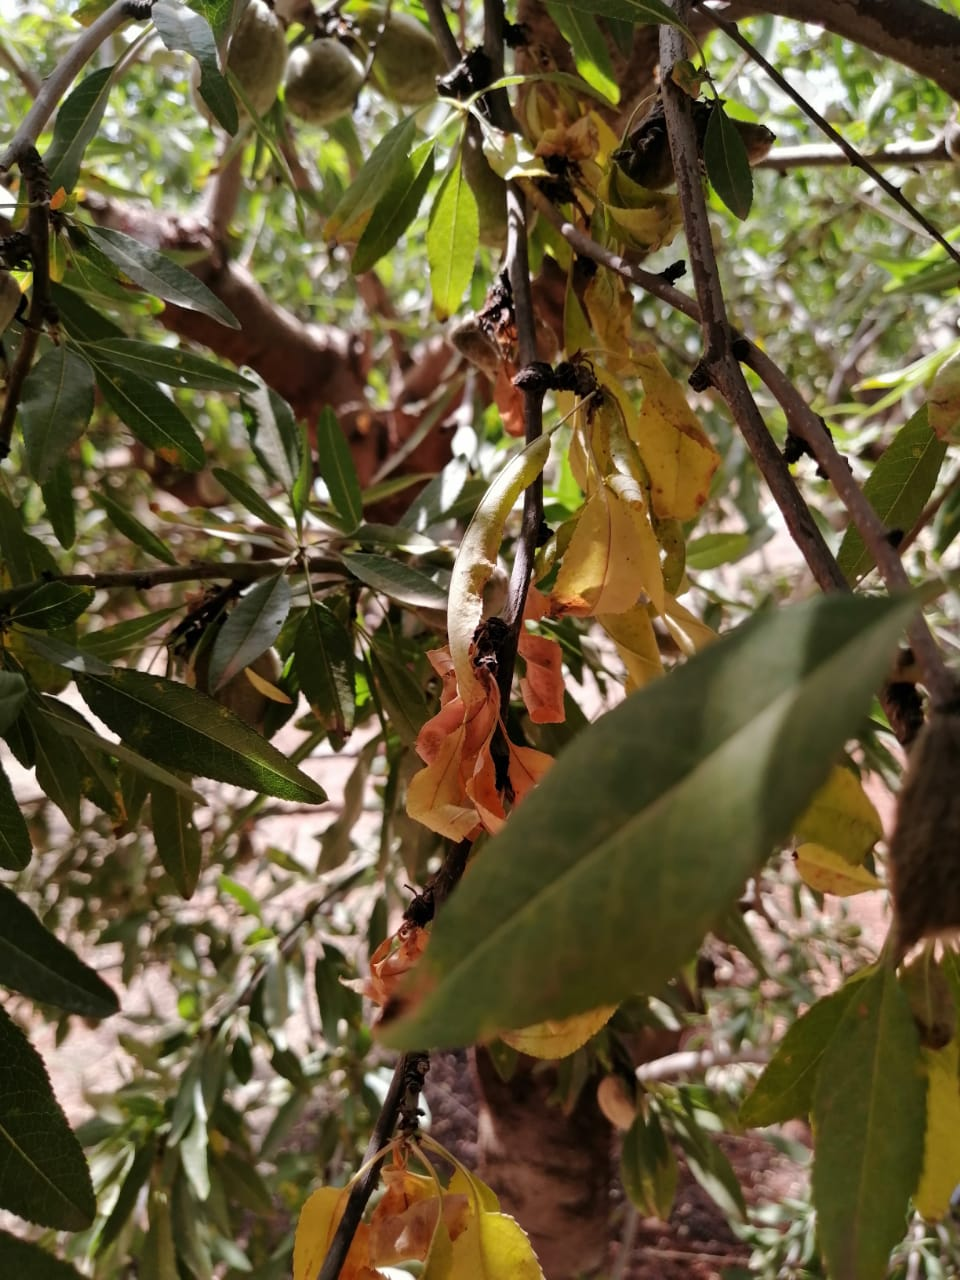chancre fusicocum: (292, 360, 722, 1267)
